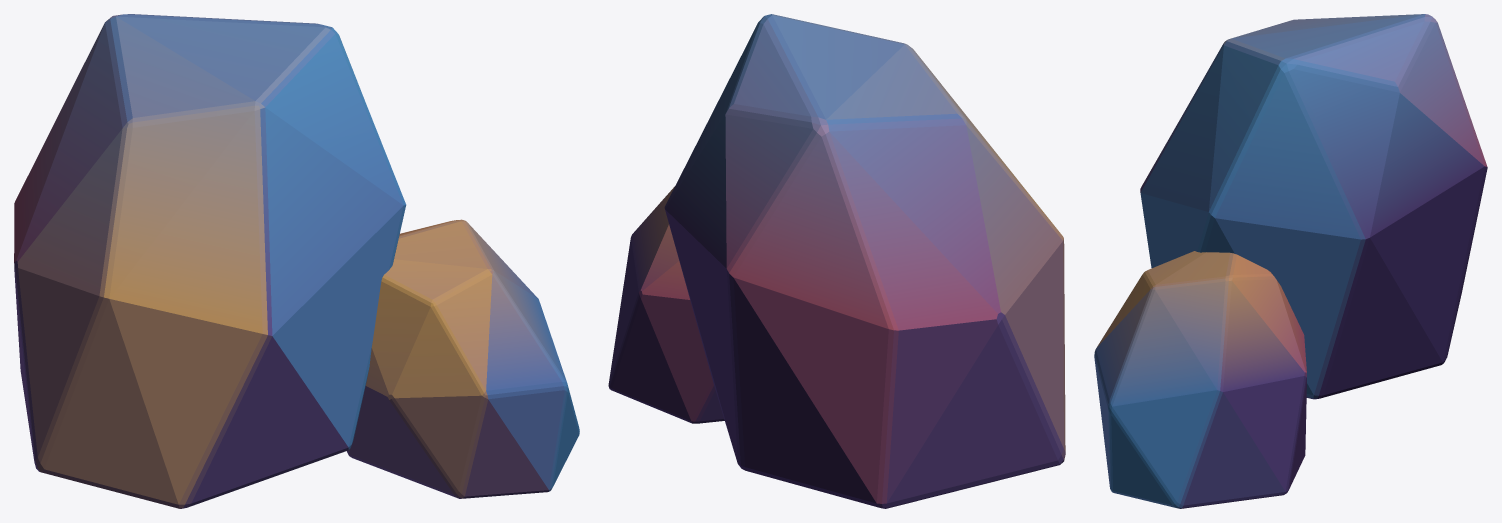
The model's file is Fusionstone.glb.
3 renders of one model, left to right at view 1: azimuth 30°, elevation 25°; view 2: azimuth 150°, elevation 25°; view 3: azimuth 270°, elevation 25°, orthographic. The views are drawn at different scales.
Parts seen in each view (by area): view 1: Fusionstone; view 2: Fusionstone; view 3: Fusionstone.
Boxes of the visible parts, box(x1,y1,x2,y2) form: Fusionstone: box(14, 14, 579, 508); Fusionstone: box(608, 14, 1065, 508); Fusionstone: box(1094, 14, 1487, 508).
Size of the model in its own units: 1.27 by 1.07 by 1.01.
